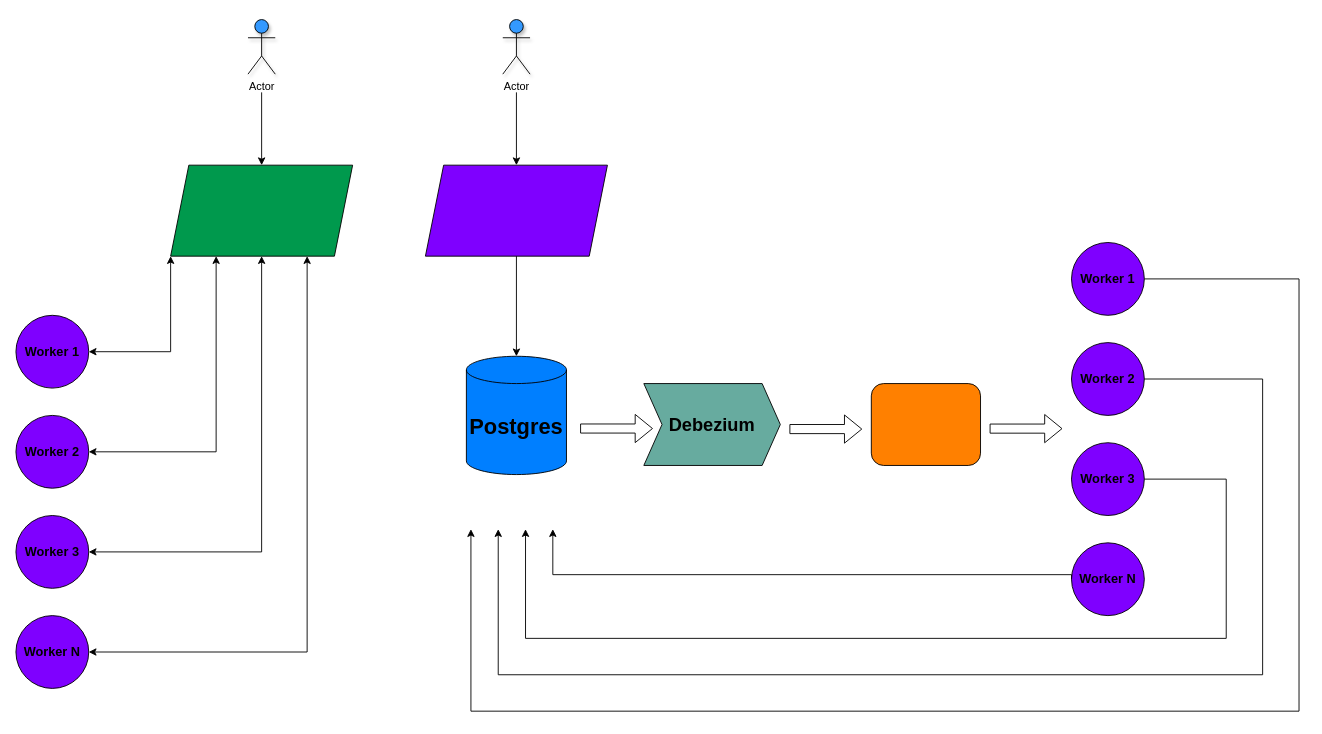
Some shapes in this 1322 by 734 pixel diagram are drawn without their labels. Each missing label, with the centre of its shape:
gRPC: pixel 261 210
RabbitMQ: pixel 925 424
REST: pixel 516 210
